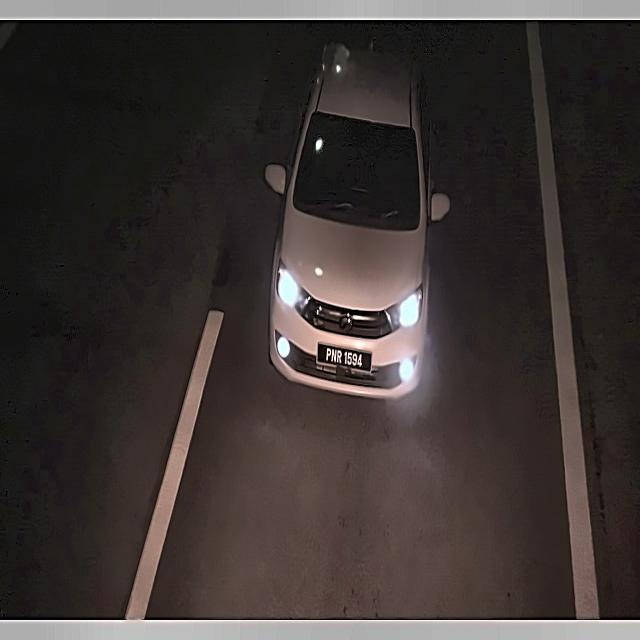car: (314, 339, 376, 376)
